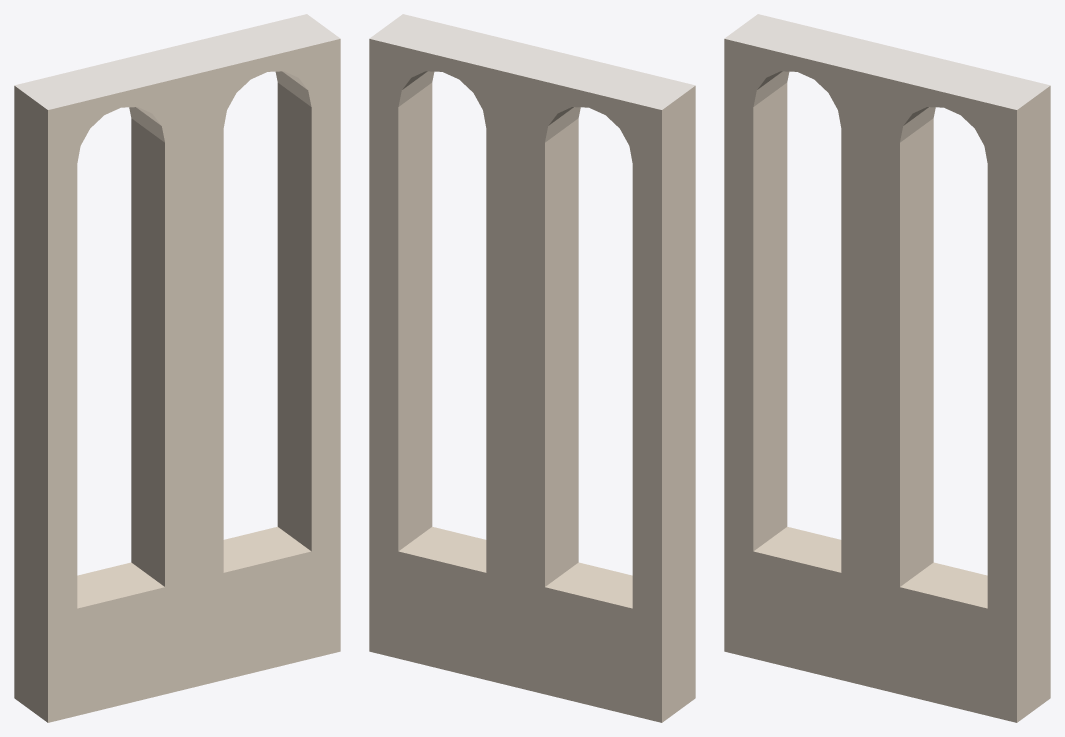
File: Wall_Straight_Windows_Tall.glb
The picture shows the model from 3 angles, left to right: view 1: azimuth 30°, elevation 25°; view 2: azimuth 150°, elevation 25°; view 3: azimuth 330°, elevation 25°; orthographic projection.
Parts seen in each view (by area): view 1: Wall_Straight_Windows_Tall; view 2: Wall_Straight_Windows_Tall; view 3: Wall_Straight_Windows_Tall.
Part boxes in pixels (left/top/right/bottom): Wall_Straight_Windows_Tall: left=14, top=14, right=340, bottom=722; Wall_Straight_Windows_Tall: left=369, top=14, right=695, bottom=722; Wall_Straight_Windows_Tall: left=724, top=14, right=1050, bottom=722.
Size of the model in its own units: 0.45 by 0.9 by 0.09.
